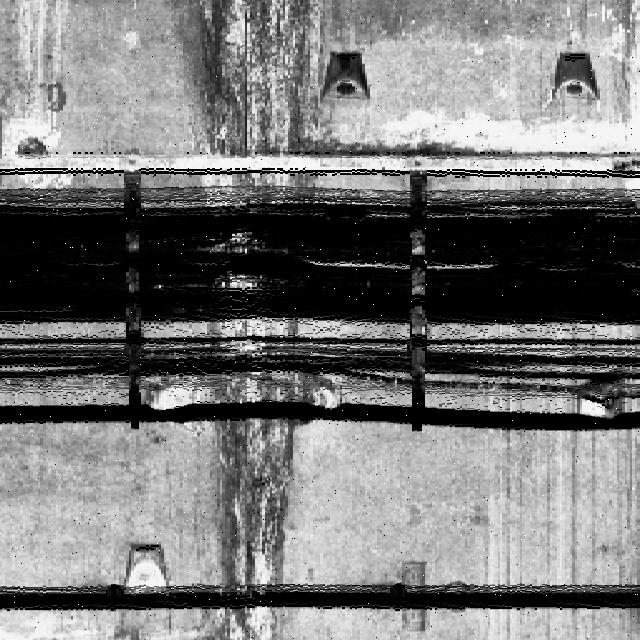leakage: (192, 0, 328, 639)
